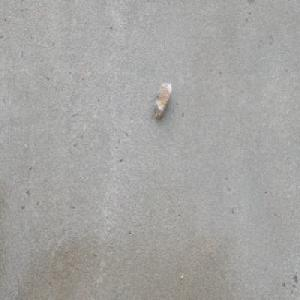Rock: (153, 80, 172, 119)
